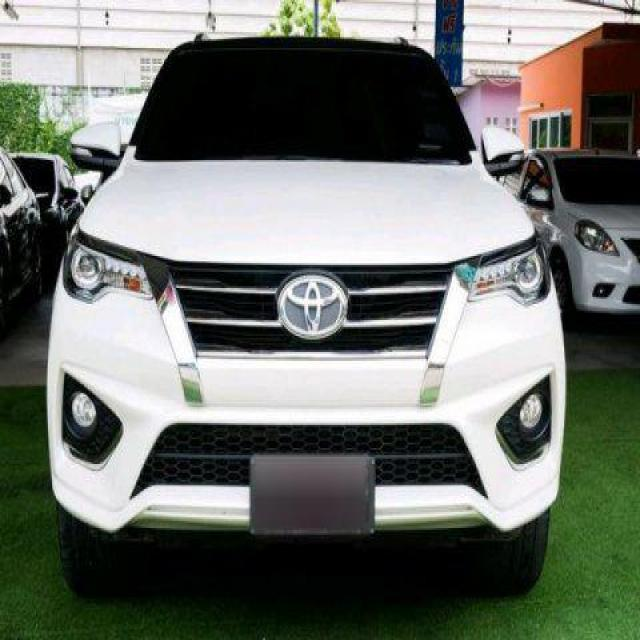front_bumper: (45, 221, 567, 534)
front_glass: (133, 48, 482, 163)
front_left_light: (468, 228, 549, 306)
front_right_light: (62, 239, 157, 304)
hood: (76, 160, 534, 263)
left_mirror: (481, 128, 528, 180)
right_mirror: (68, 121, 124, 173)
